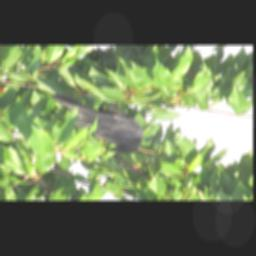Crow: (50, 94, 145, 154)
